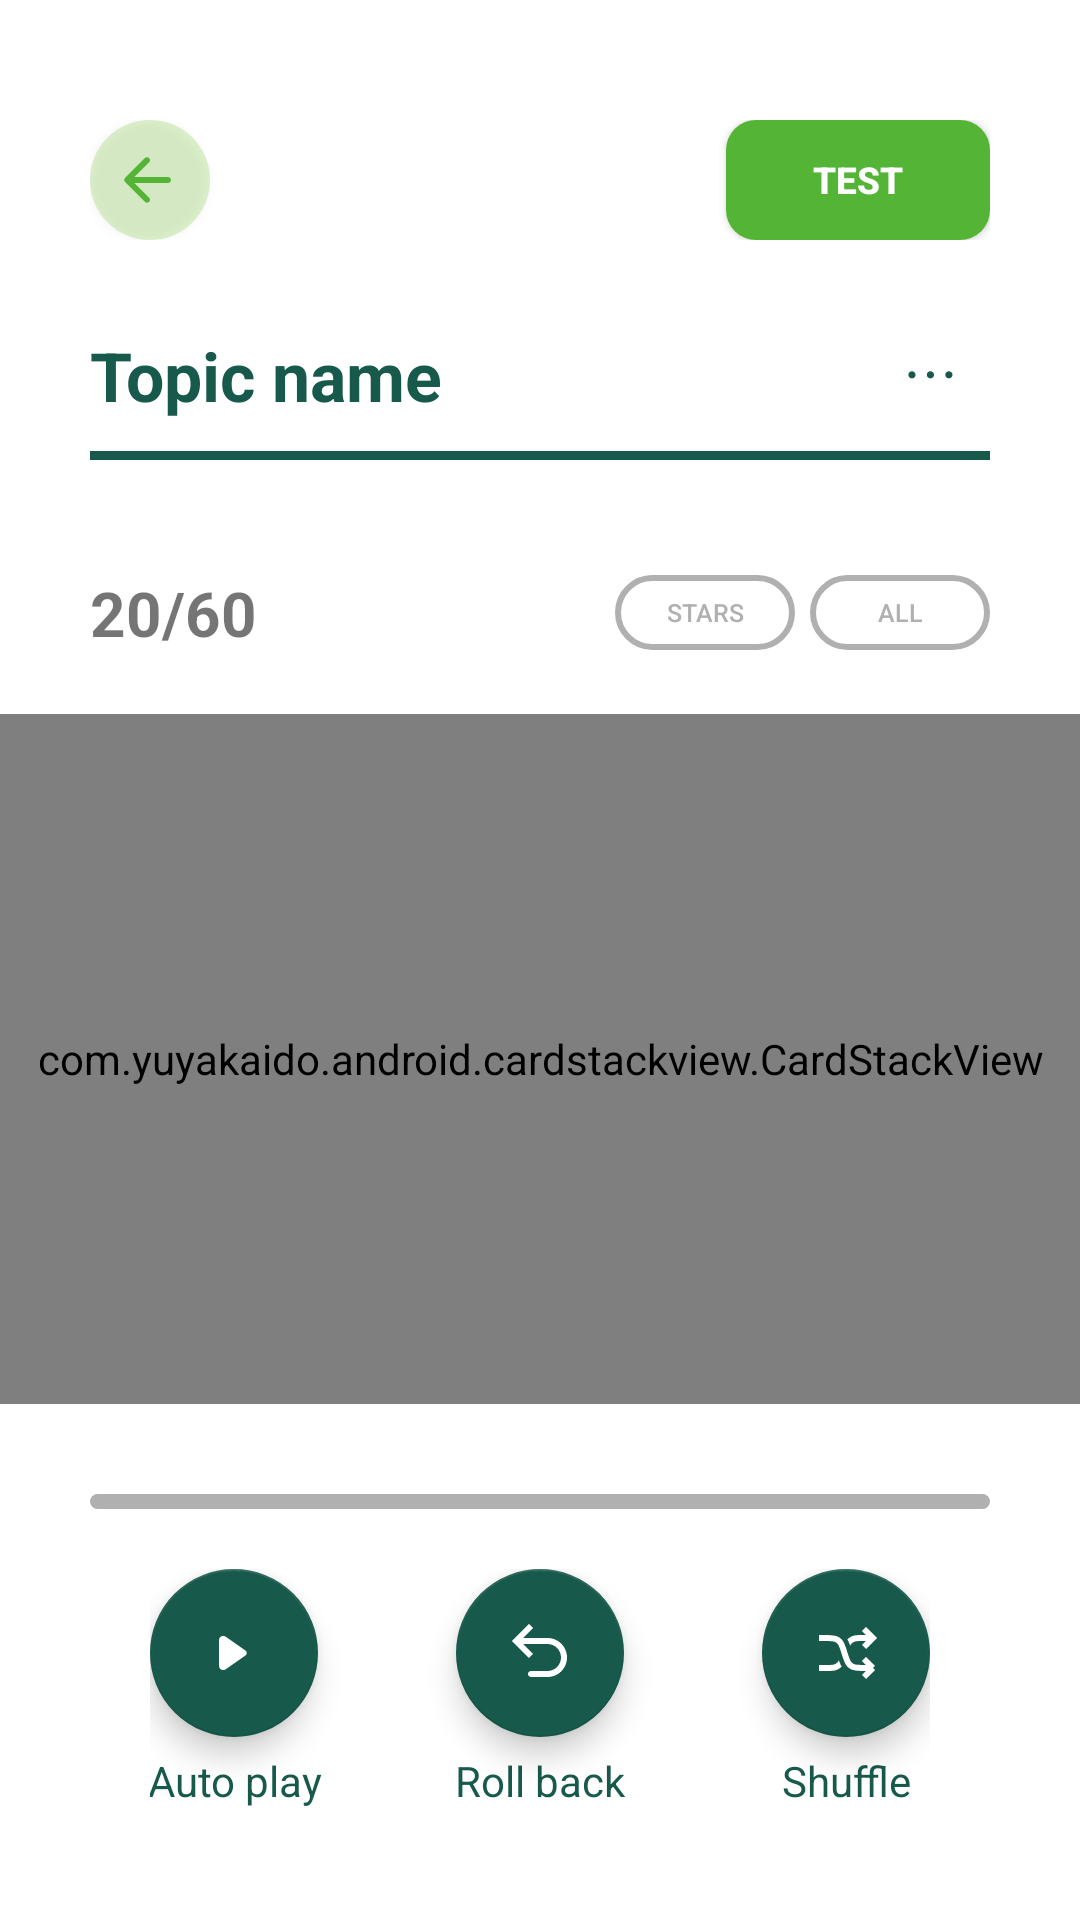

Point at icon controls on the screen. Image size 1080x1920, points as (x=x, y=y).
option: (x=930, y=375)
refund back: (x=540, y=1653)
